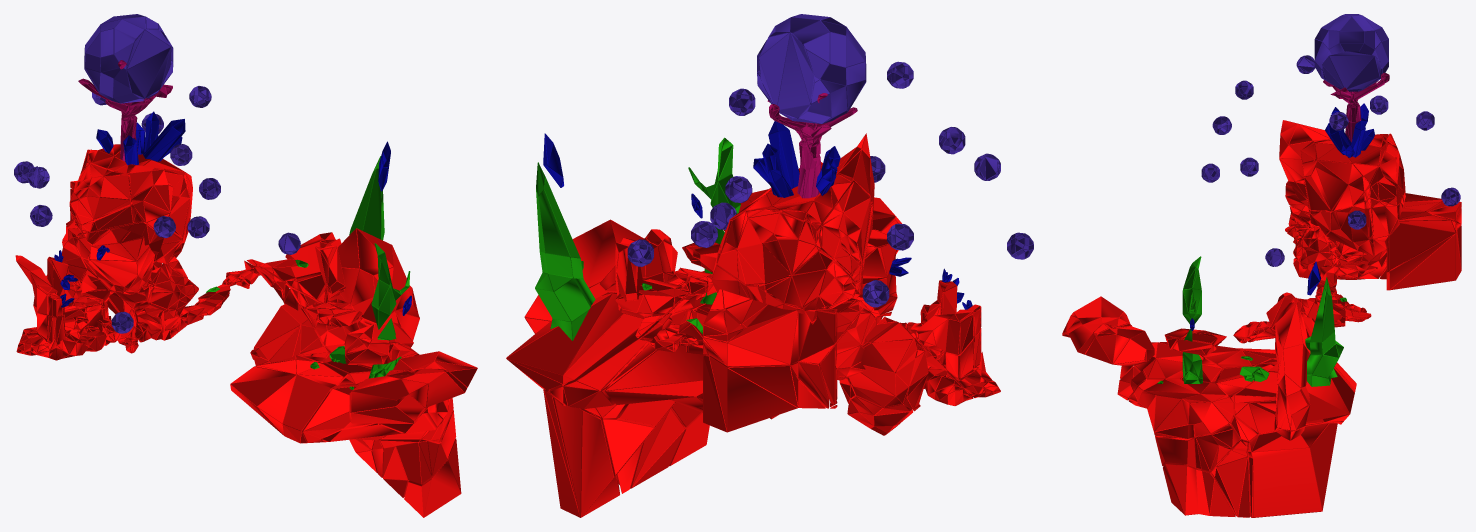
Rendered from Full Tutorial Level2.fbx.
3 renders of one model, left to right at view 1: azimuth 30°, elevation 25°; view 2: azimuth 150°, elevation 25°; view 3: azimuth 270°, elevation 25°, orthographic. The views are drawn at different scales.
Visible parts, largest first — view 1: start, end, floating_balls, pillars, Crystals_1, tree; view 2: end, start, floating_balls, pillars, Crystals_1, tree; view 3: start, end, floating_balls, pillars, Crystals_1, tree, rocks.
Boxes of the visible parts, x1,y1,x2,y2 form: start: (194, 228, 477, 517); end: (15, 144, 204, 360); floating_balls: (14, 14, 300, 333); pillars: (349, 156, 410, 378); Crystals_1: (54, 111, 411, 315); tree: (78, 60, 172, 161); end: (703, 133, 1000, 435); start: (506, 189, 901, 517); floating_balls: (627, 14, 1033, 307); pillars: (535, 137, 740, 340); Crystals_1: (543, 121, 972, 309); tree: (767, 93, 857, 198); start: (1062, 292, 1371, 517); end: (1279, 120, 1461, 294); floating_balls: (1201, 14, 1460, 266); pillars: (1182, 256, 1343, 386); Crystals_1: (1190, 103, 1374, 330); tree: (1323, 72, 1389, 142); rocks: (1157, 297, 1346, 383).
Bounding box in the file's own units: 17199 × 19715 × 17628.
